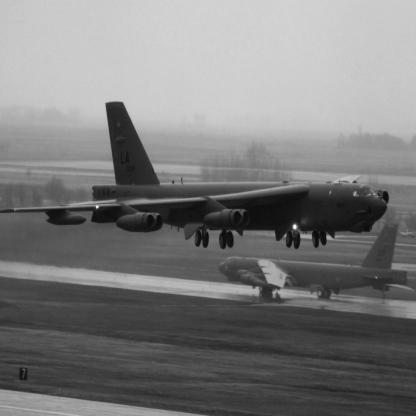B52: (2, 103, 391, 251), (218, 224, 416, 299)
